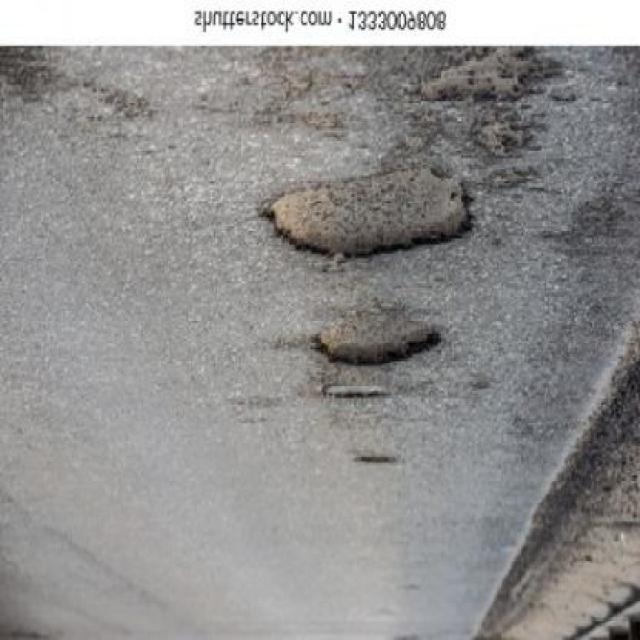Pothole: (269, 169, 469, 255), (314, 308, 441, 363), (321, 384, 390, 399), (354, 452, 398, 464)
